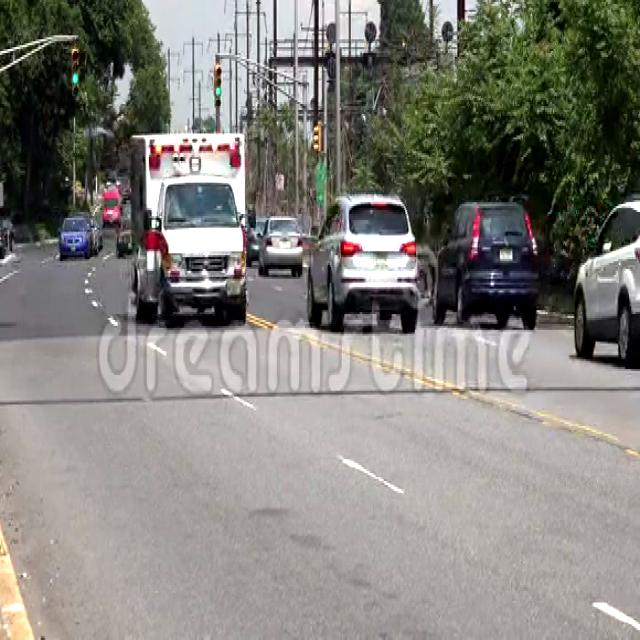ambulance: (129, 131, 256, 326)
